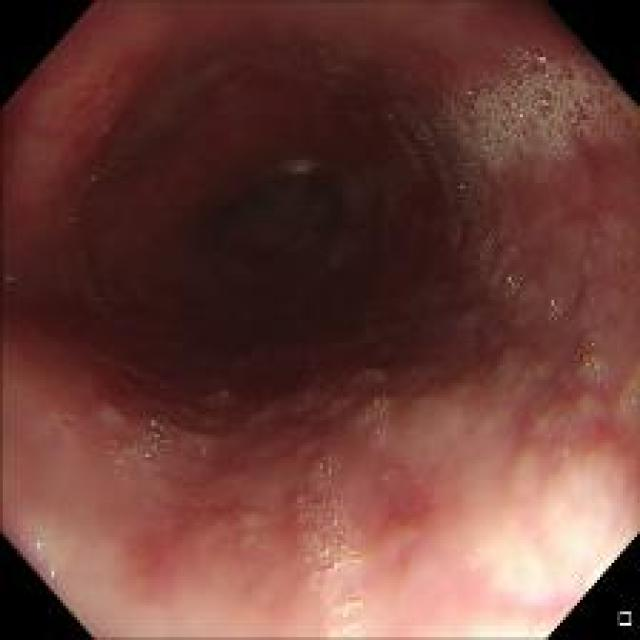bubbles: (432, 56, 620, 185), (288, 454, 372, 632), (99, 409, 180, 476), (452, 230, 522, 291), (581, 329, 629, 410), (351, 396, 395, 435), (542, 285, 574, 324), (215, 386, 235, 405), (378, 466, 399, 482), (524, 280, 540, 296), (360, 369, 375, 380)
contrast: (86, 68, 428, 375)
saturation: (470, 486, 612, 631)
